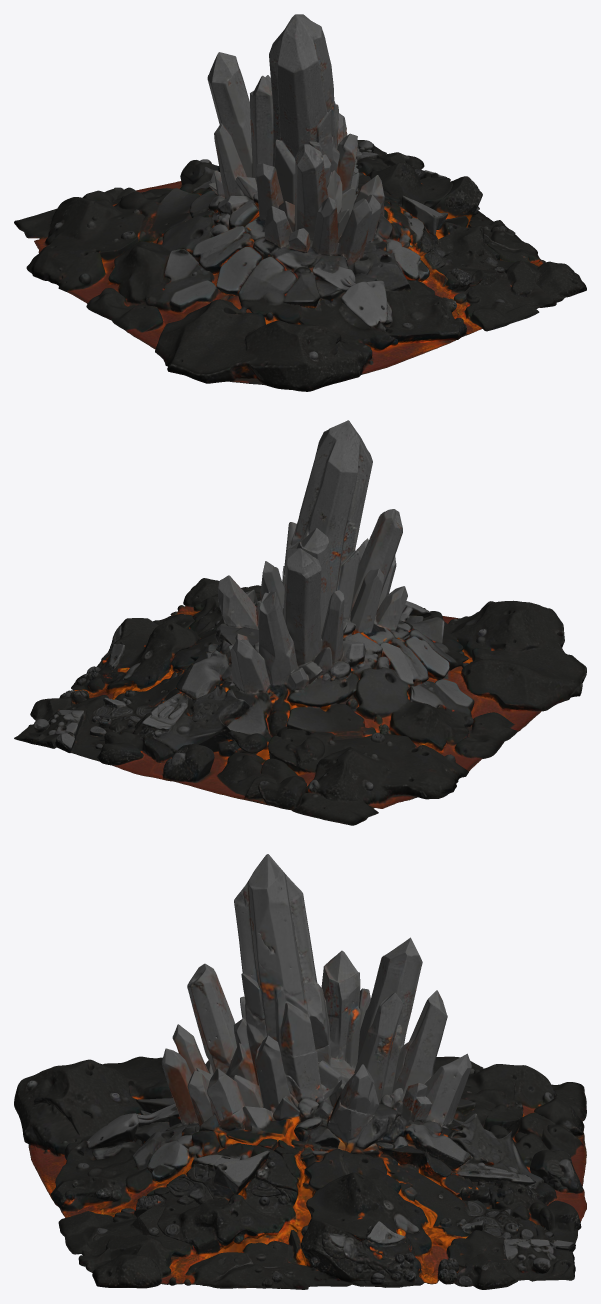
File: venus_shard.glb
3 views of the same model, one above another, from view 1: azimuth 30°, elevation 25°; view 2: azimuth 150°, elevation 25°; view 3: azimuth 270°, elevation 25° (orthographic). The views are drawn at different scales.
Visible parts, largest first — view 1: tripo_node_82326e2d-8ee4-4e6c-8fa1-79ea8c1641a4; view 2: tripo_node_82326e2d-8ee4-4e6c-8fa1-79ea8c1641a4; view 3: tripo_node_82326e2d-8ee4-4e6c-8fa1-79ea8c1641a4.
Part boxes in pixels (x1,y1,x2,y2): tripo_node_82326e2d-8ee4-4e6c-8fa1-79ea8c1641a4: (14, 14, 586, 391); tripo_node_82326e2d-8ee4-4e6c-8fa1-79ea8c1641a4: (14, 420, 586, 825); tripo_node_82326e2d-8ee4-4e6c-8fa1-79ea8c1641a4: (14, 854, 586, 1289).
Bounding box in the file's own units: 0.9152 × 0.5909 × 0.9793.
1 material, 1 textured.
